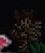zombie: (1, 1, 45, 53)
